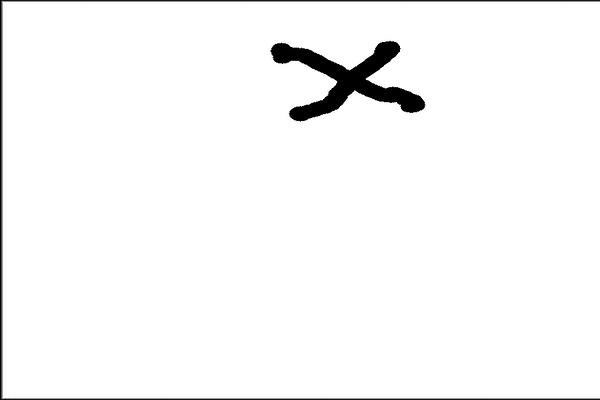X: (241, 26, 441, 122)
